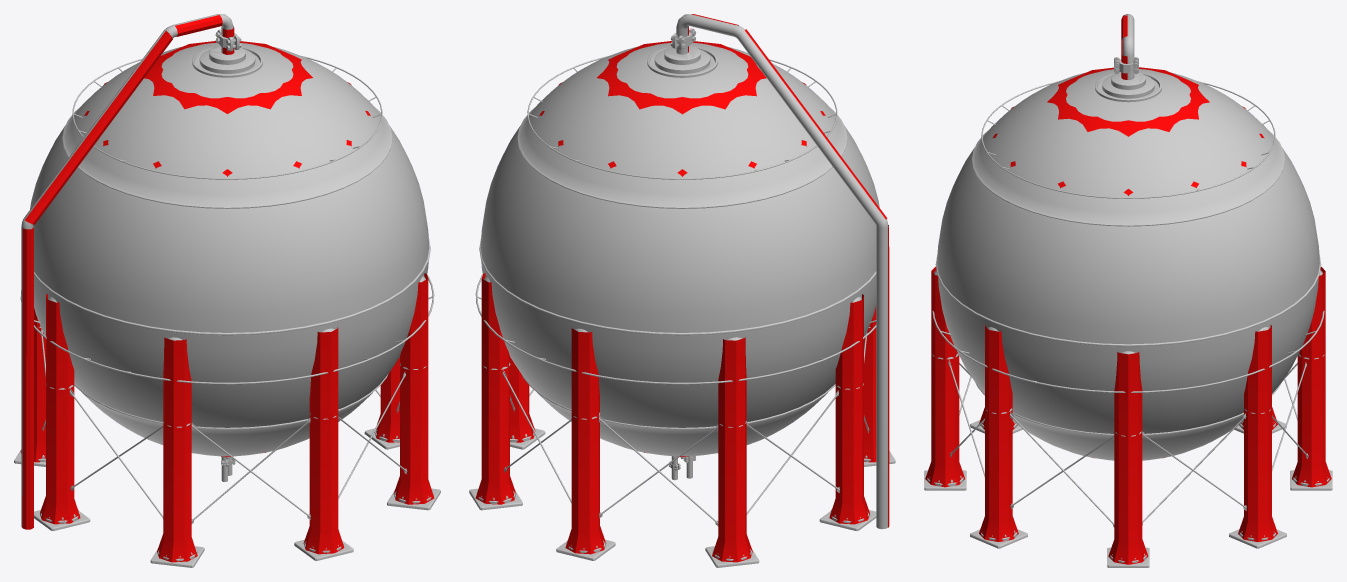
Rendered from gastank_gross.fbx.
3 renders of one model, left to right at view 1: azimuth 30°, elevation 25°; view 2: azimuth 150°, elevation 25°; view 3: azimuth 270°, elevation 25°, orthographic. The views are drawn at different scales.
Visible parts, largest first — view 1: gastank_gross_LOD0, colmesh_4; view 2: gastank_gross_LOD0, colmesh_4; view 3: gastank_gross_LOD0, colmesh_4.
Part boxes in pixels (x1,y1,x2,y2): gastank_gross_LOD0: [14, 14, 440, 567]; colmesh_4: [20, 15, 434, 562]; gastank_gross_LOD0: [469, 14, 895, 567]; colmesh_4: [475, 14, 889, 562]; gastank_gross_LOD0: [924, 14, 1332, 567]; colmesh_4: [925, 14, 1331, 564].
Size of what is drawn, in the model's own units: 22.57 by 25.61 by 21.47.
